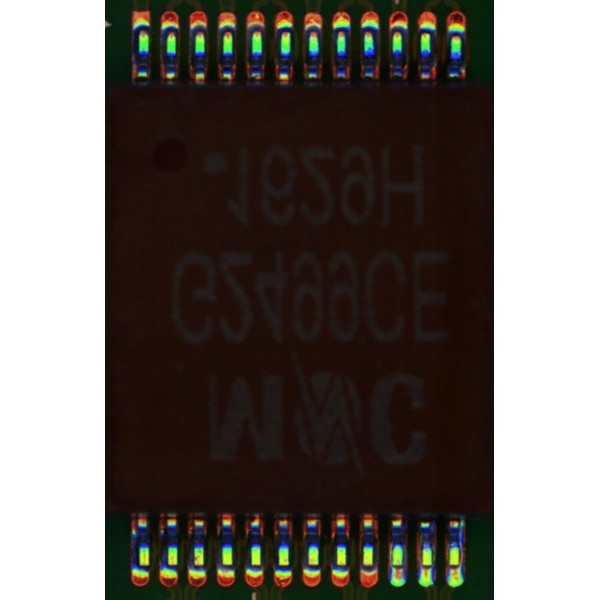Bad_podu: (422, 562, 432, 576), (449, 561, 459, 573), (392, 563, 403, 573)
Bad_qiaojiao: (458, 521, 464, 568)
